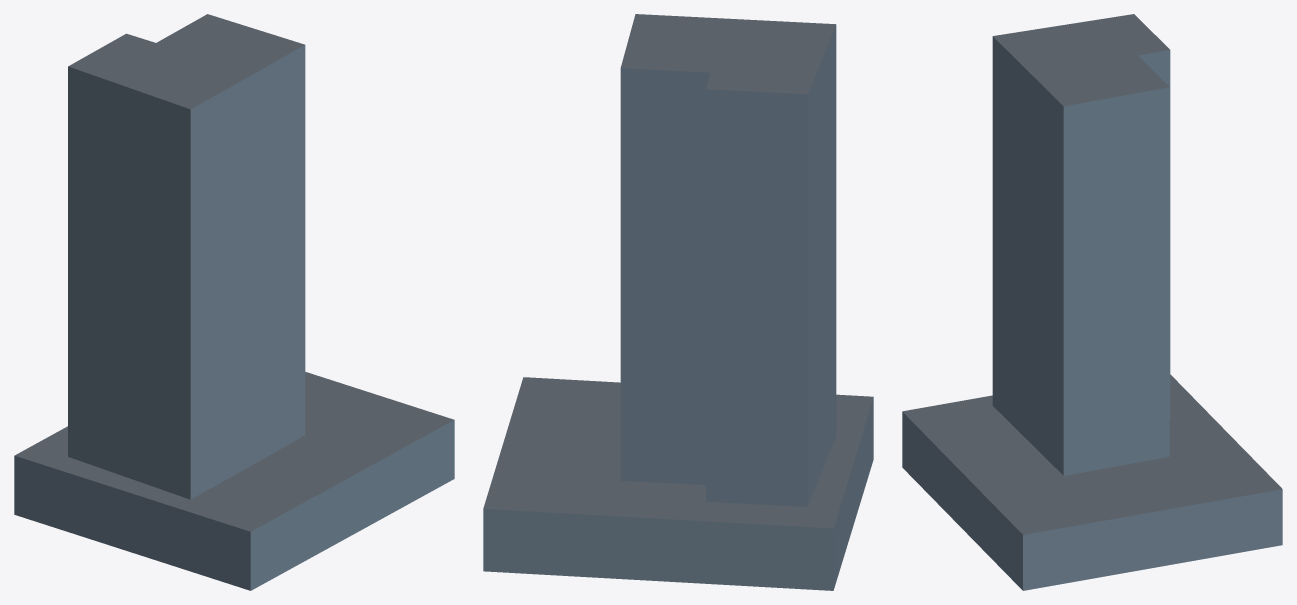
3 renders of one model, left to right at view 1: azimuth 30°, elevation 25°; view 2: azimuth 150°, elevation 25°; view 3: azimuth 270°, elevation 25°, orthographic. The views are drawn at different scales.
Visible parts, largest first — view 1: HP-w10628441; view 2: HP-w10628441; view 3: HP-w10628441.
Boxes of the visible parts, bbox=[...] form: HP-w10628441: bbox=[14, 14, 454, 590]; HP-w10628441: bbox=[483, 14, 873, 590]; HP-w10628441: bbox=[902, 14, 1282, 590].
Bounding box in the file's own units: 123 × 144 × 117.
